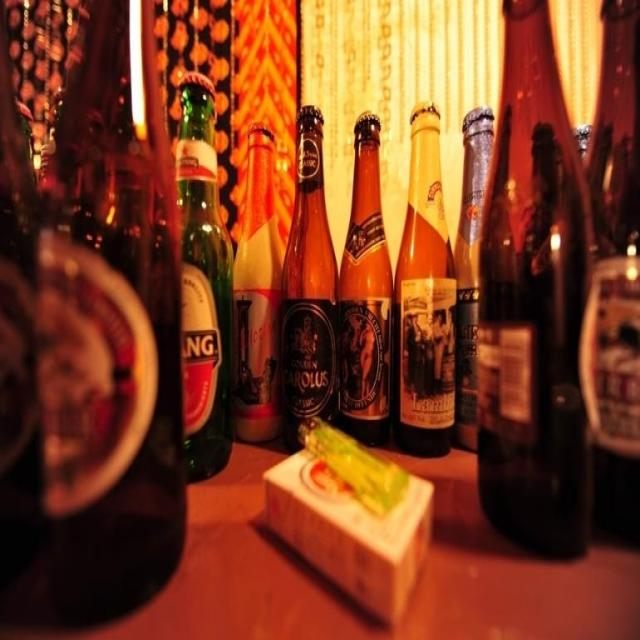Glass: (174, 11, 640, 444), (3, 0, 188, 624)
